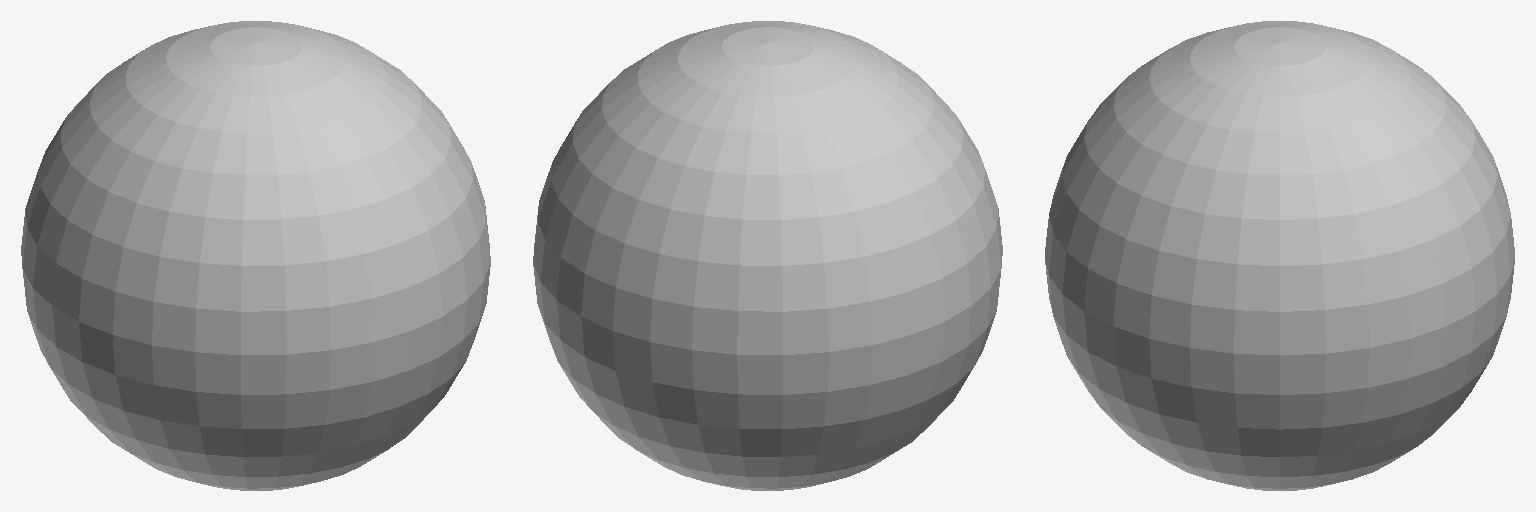
File: figure_2.obj
The picture shows the model from 3 angles: view 1: azimuth 30°, elevation 25°; view 2: azimuth 150°, elevation 25°; view 3: azimuth 270°, elevation 25°; orthographic projection.
Visible parts, largest first — view 1: Cube.002_Cube.011; view 2: Cube.002_Cube.011; view 3: Cube.002_Cube.011.
Boxes of the visible parts, x1,y1,x2,y2 form: Cube.002_Cube.011: [21, 21, 490, 490]; Cube.002_Cube.011: [533, 21, 1002, 490]; Cube.002_Cube.011: [1045, 21, 1514, 490].
Size of the model in its own units: 2 by 2 by 2.